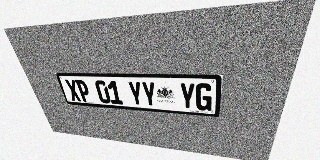0: (94, 80, 111, 104)
1: (106, 81, 123, 105)
G: (195, 83, 213, 111)
P: (75, 80, 92, 102)
X: (64, 79, 82, 101)
Y: (179, 83, 195, 110), (127, 81, 144, 106), (141, 81, 157, 107)
